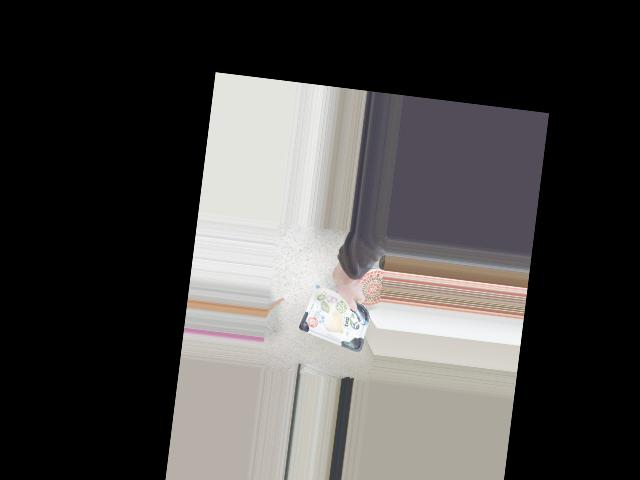cheese: (300, 283, 373, 353)
